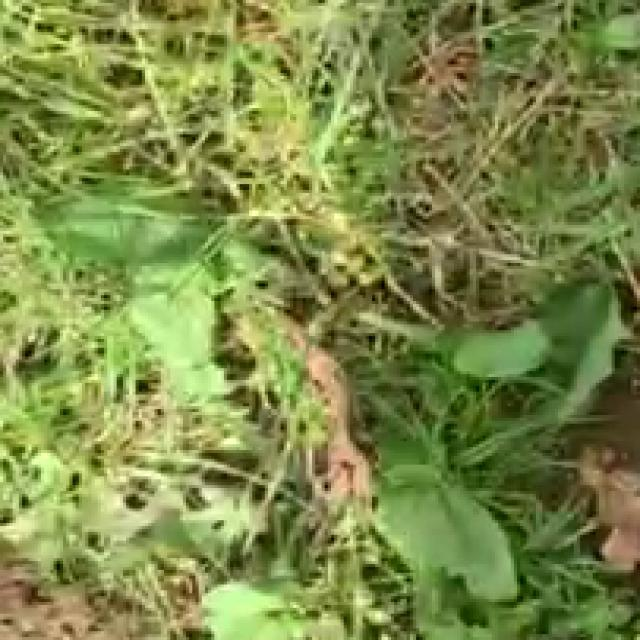organic waste: (325, 248, 605, 640), (82, 164, 299, 371)
